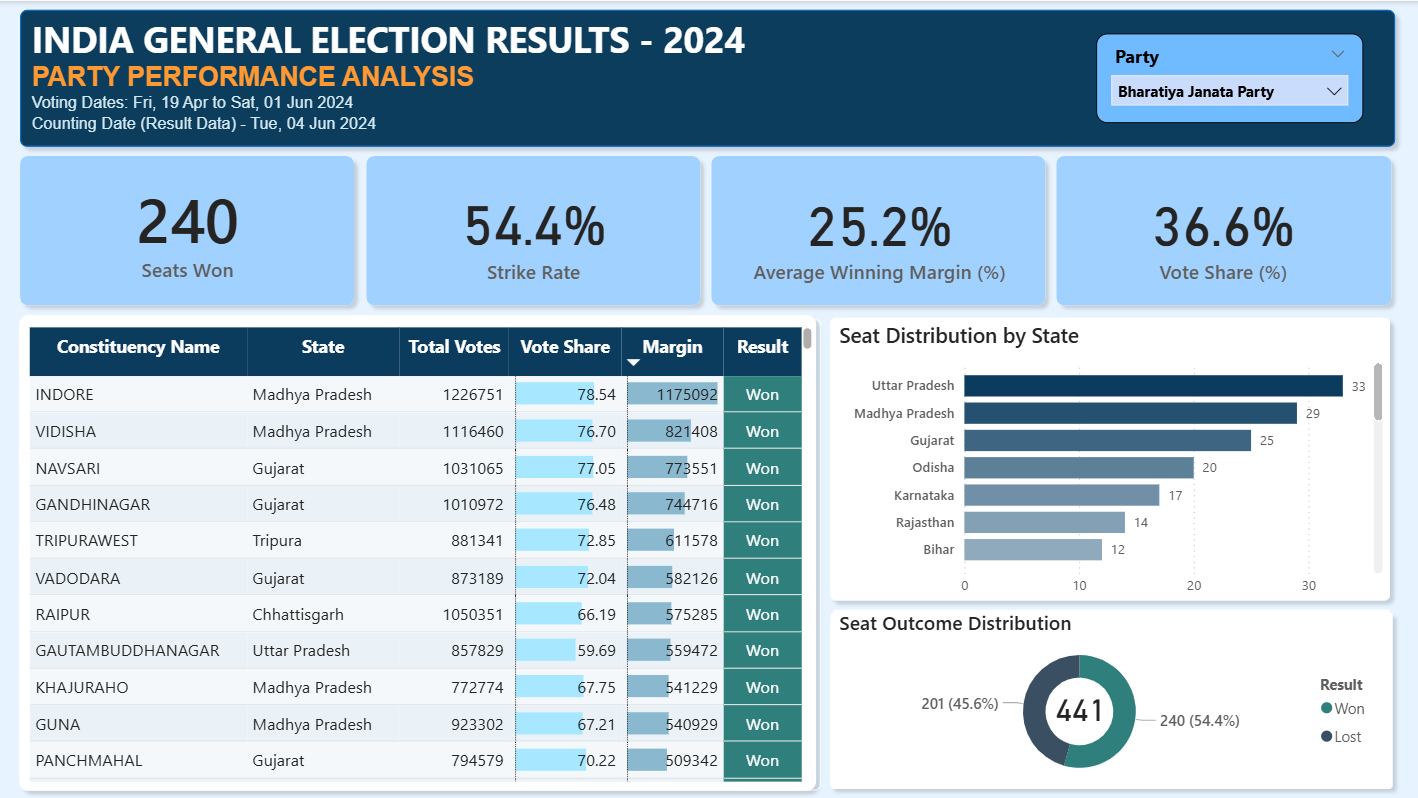

Layout of this report page (visuals, bound fields, positions):
{"tool":"powerbi","page":{"name":"Party Performance Analysis","canvas":[1280,720],"ordinal":3},"visuals":[{"type":"shape","box":[9.8,0,1255.8,139.4],"z":0},{"type":"textbox","box":[23.8,8.3,672.9,120.1],"z":1000},{"type":"shape","box":[9.8,132.1,317,150.4],"z":2000},{"type":"slicer","fields":{"Values":["Party_Dim.Party"]},"box":[988,29.3,240.9,80.7],"z":3000},{"type":"card","fields":{"Values":["partywise_results.Seats Won"]},"box":[21,139.4,295.9,133.3],"z":4000},{"type":"shape","box":[322,132,317,150.4],"z":5000},{"type":"shape","box":[634,132,317,150.4],"z":6000},{"type":"shape","box":[945,132,318,150.4],"z":7000},{"type":"card","fields":{"Values":["partywise_results.Strike Rate"]},"box":[331,142,300,132],"z":8000},{"type":"card","fields":{"Values":["constituencywise_details.Win Margin %"]},"box":[644,142,299.6,133.3],"z":9000},{"type":"card","fields":{"Values":["partywise_results.Party Vote Share %"]},"box":[954,141.8,299.6,133.3],"z":10000},{"type":"shape","box":[8.6,275,734.9,445.1],"z":11000},{"type":"shape","box":[741,277,520.9,271.5],"z":12000},{"type":"shape","box":[741,543,523.4,175],"z":14000},{"type":"tableEx","fields":{"Values":["constituencywise_results.Constituency Name","states.State","constituencywise_results.Total Votes","Sum(constituencywise_details.% of Votes)","constituencywise_details.Display Margin","constituencywise_details.Result"]},"box":[18.3,286.1,722.7,425.5],"z":15000},{"type":"barChart","title":"Seat Distribution by State","fields":{"Category":["states.State"],"Y":["constituencywise_details.Seats Won by State"]},"box":[752,288,500.1,256.8],"z":16000},{"type":"donutChart","title":"Seat Outcome Distribution","fields":{"Y":["CountNonNull(constituencywise_details.Constituency ID)"],"Category":["constituencywise_details.Result"]},"box":[752,549.1,501.4,161.4],"z":17000},{"type":"card","fields":{"Values":["partywise_results.Seats Contested"]},"box":[945.2,619,57.5,39.1],"z":18000}]}

Visuals, with their boxes in screenshot pixels (x1, y1, x2, y2), scaled from the page's 1280x720 canvas onto the 1418x798 screenshot:
shape: 11:0:1402:155
textbox: 26:9:772:142
shape: 11:146:362:313
slicer - Party_Dim.Party: 1095:32:1361:122
card - partywise_results.Seats Won: 23:155:351:302
shape: 357:146:708:313
shape: 702:146:1054:313
shape: 1047:146:1399:313
card - partywise_results.Strike Rate: 367:157:699:304
card - constituencywise_details.Win Margin %: 713:157:1045:305
card - partywise_results.Party Vote Share %: 1057:157:1389:305
shape: 10:305:824:797
shape: 821:307:1398:608
shape: 821:602:1401:796
tableEx - constituencywise_results.Constituency Name x states.State: 20:317:821:789
"Seat Distribution by State" barChart: 833:319:1387:604
"Seat Outcome Distribution" donutChart: 833:609:1389:787
card - partywise_results.Seats Contested: 1047:686:1111:729
